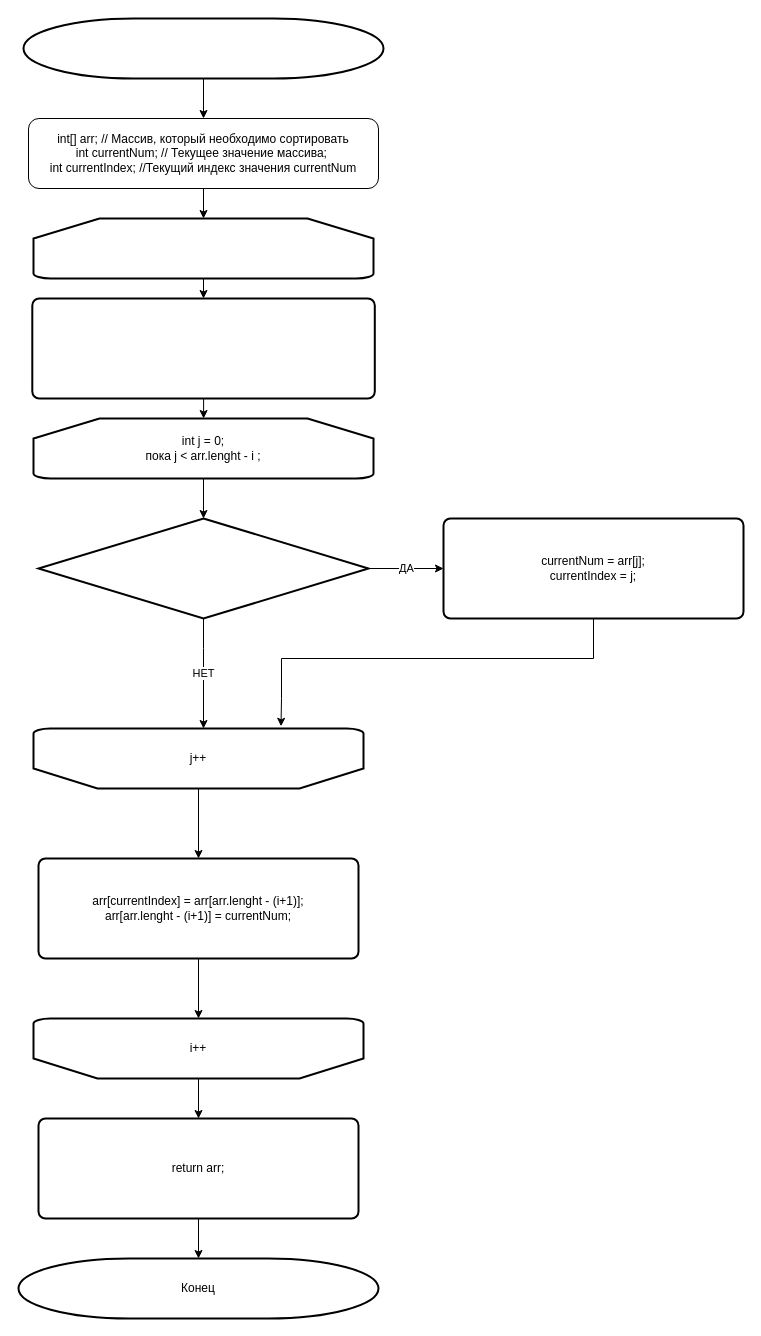
Image size: 761x1336. Some labels were removed from this diagram. Here are the shapes that lost their labels. From the top down, the box of each, then its label:
(22, 17, 384, 79): Начало
(32, 217, 374, 279): int i = 0; пока i < arr.lenght;
(31, 297, 375, 399): currentNum = arr[0] ; currentIndex = 0;
(37, 517, 369, 619): currentNum < arr [ j ];
